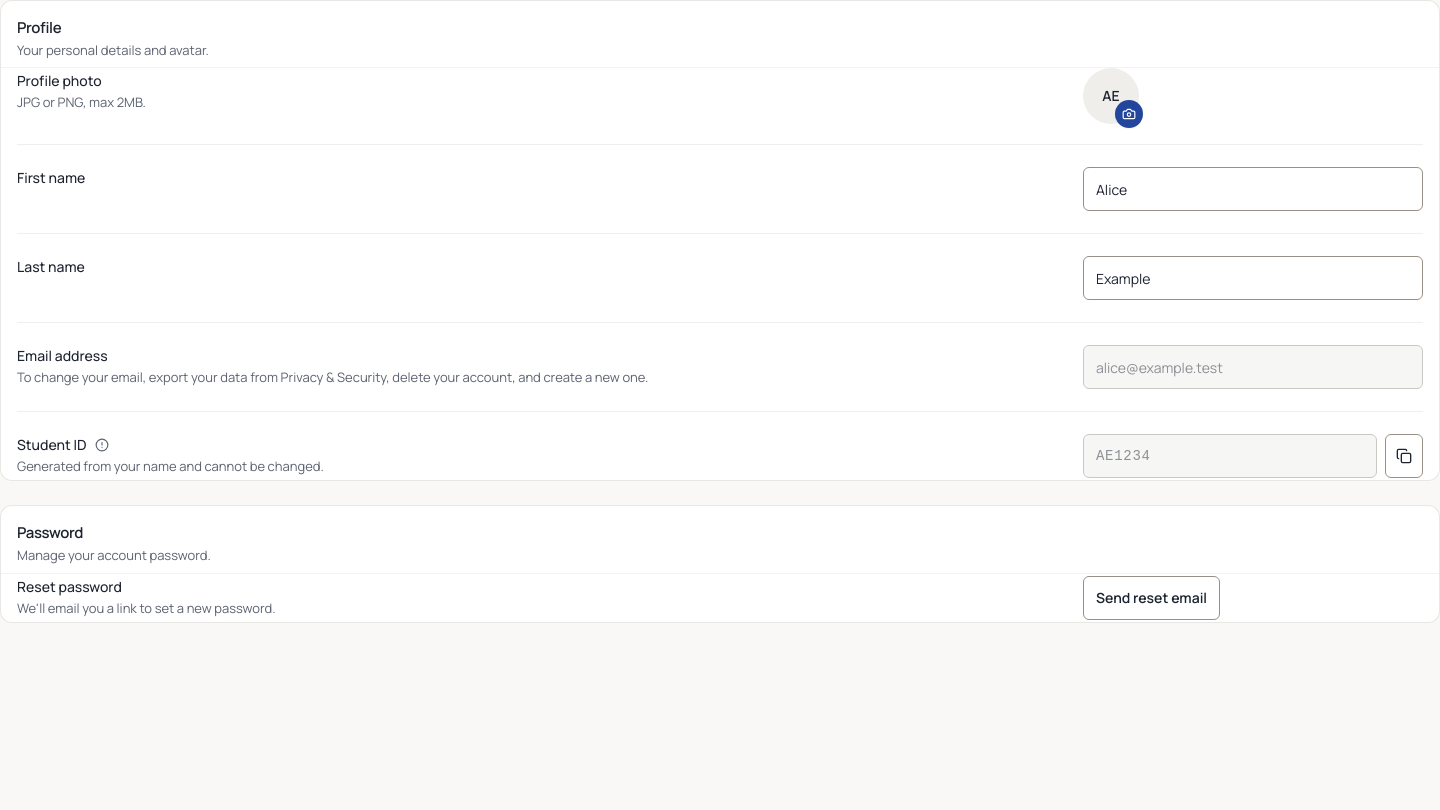
account-scoped workspace reads › preserves unsaved account edits when an older account read returns
The image size is (1440, 810).
Replace the text in the field labelled "First name" with "Alicia" at (1253, 189), box [1083,167,1423,211]
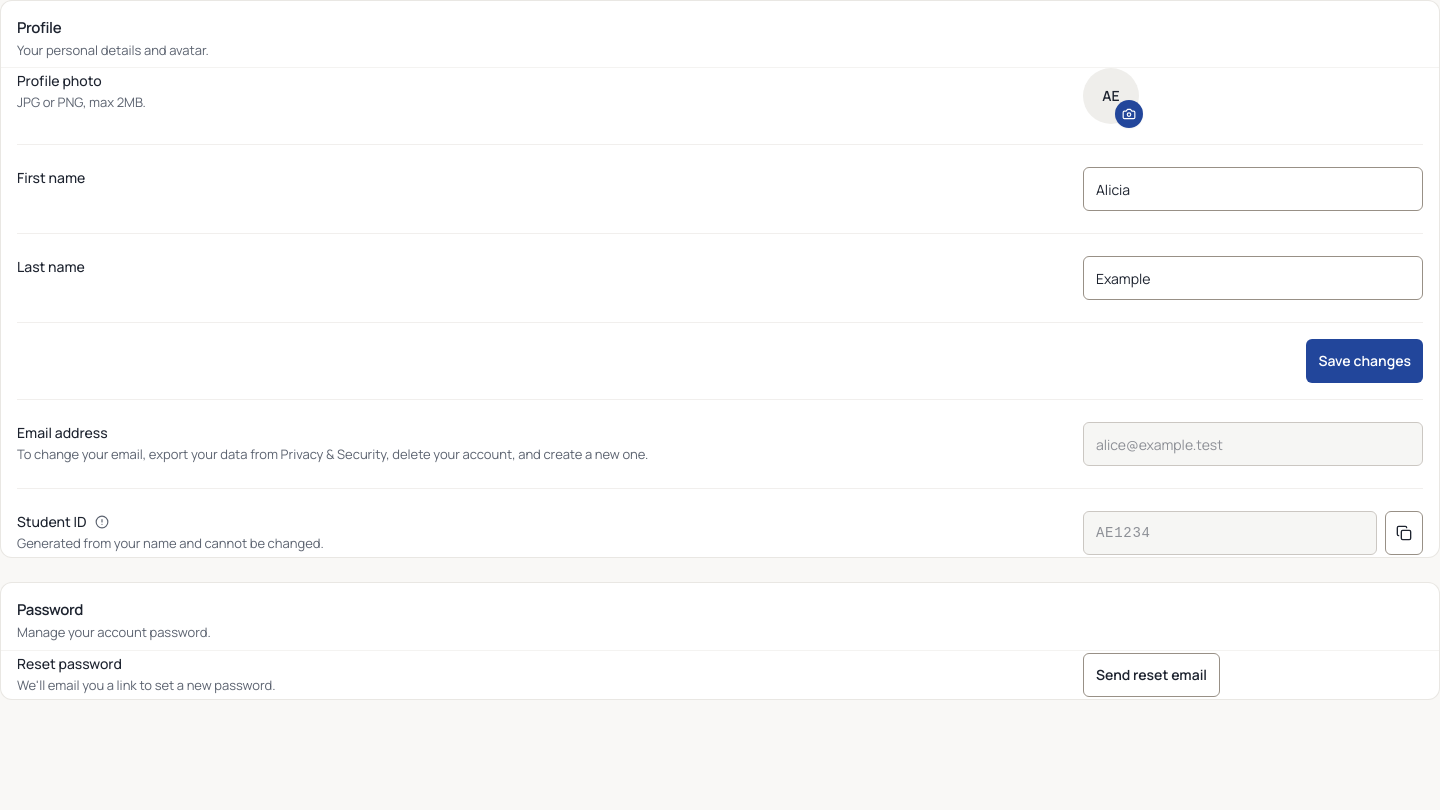
Expected: the field labelled "Last name" holds "Example", [1083,256,1423,300]
Result: the button "Save changes" is enabled at [1306,339,1423,383]
